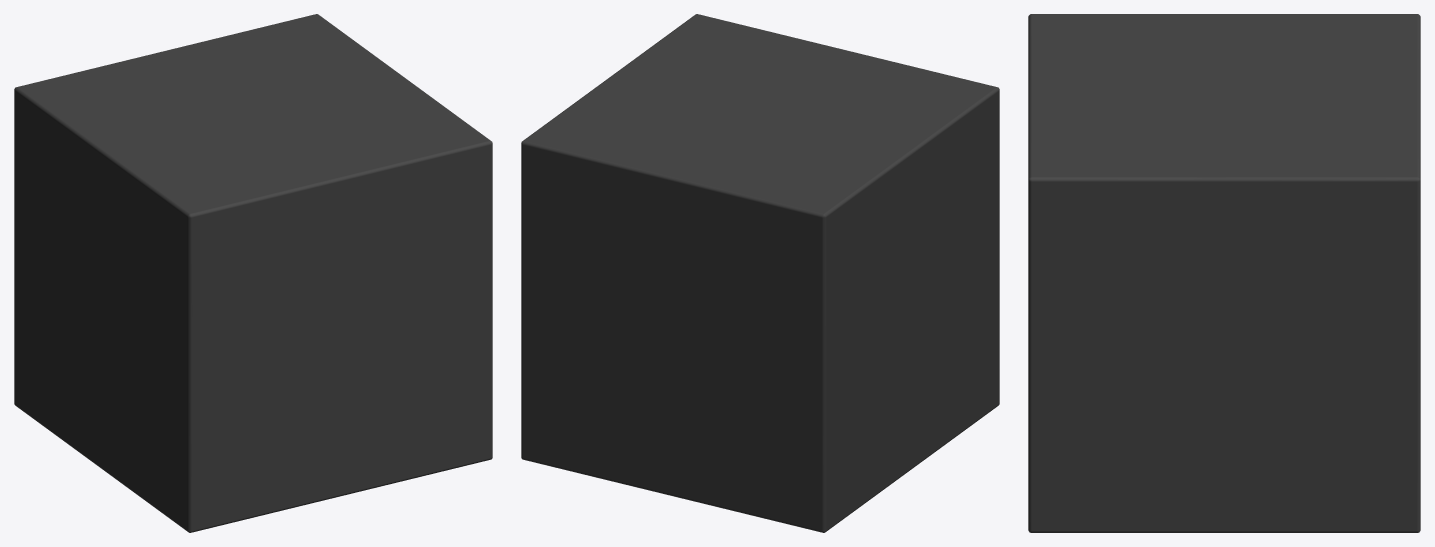
The model's file is dark_cube.glb.
The picture shows the model from 3 angles, left to right: view 1: azimuth 30°, elevation 25°; view 2: azimuth 150°, elevation 25°; view 3: azimuth 270°, elevation 25°; orthographic projection. The views are drawn at different scales.
Parts seen in each view (by area): view 1: cube.1; view 2: cube.1; view 3: cube.1.
Boxes of the visible parts, x1,y1,x2,y2 form: cube.1: (14, 14, 492, 532); cube.1: (521, 14, 999, 532); cube.1: (1028, 14, 1420, 532).
Bounding box in the file's own units: 0.14 × 0.14 × 0.14.
1 material, 1 textured.
